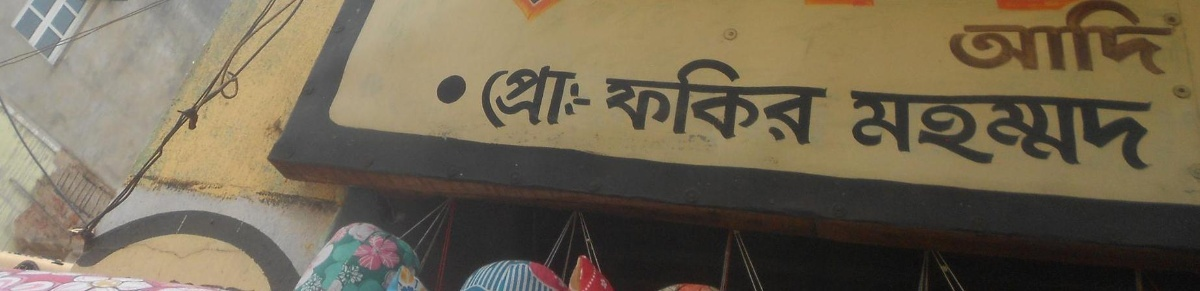text: (849, 81, 864, 182), (865, 81, 880, 182), (881, 81, 896, 182), (897, 81, 912, 182), (913, 81, 928, 182), (929, 81, 944, 182), (945, 81, 960, 182), (961, 81, 976, 182), (977, 81, 992, 182), (993, 81, 1008, 182), (1009, 81, 1024, 182), (1025, 81, 1040, 182), (1041, 81, 1056, 182), (1057, 81, 1072, 182), (1073, 81, 1088, 182), (1089, 81, 1104, 182), (1105, 81, 1120, 182), (1121, 81, 1136, 182), (1137, 81, 1152, 182), (609, 51, 624, 151), (625, 51, 640, 151), (641, 51, 656, 151), (657, 51, 672, 151), (673, 51, 688, 151), (689, 51, 704, 151), (705, 51, 720, 151), (721, 51, 736, 151), (737, 51, 752, 151), (753, 51, 768, 151), (769, 51, 784, 151), (785, 51, 800, 151), (801, 51, 816, 151), (817, 51, 832, 151), (609, 53, 624, 148), (625, 53, 640, 148), (641, 53, 656, 148), (657, 53, 672, 148), (673, 53, 688, 148), (689, 53, 704, 148), (705, 53, 720, 148), (721, 53, 736, 148), (737, 53, 752, 148), (753, 53, 768, 148), (769, 53, 784, 148), (785, 53, 800, 148), (801, 53, 816, 148), (817, 53, 832, 148), (945, 1, 960, 85), (961, 1, 976, 85), (977, 1, 992, 85), (993, 1, 1008, 85), (1009, 1, 1024, 85), (1025, 1, 1040, 85), (1041, 1, 1056, 85), (1057, 1, 1072, 85), (1073, 1, 1088, 85), (1089, 1, 1104, 85), (1105, 1, 1120, 85), (1121, 1, 1136, 85), (1137, 1, 1152, 85), (1153, 1, 1168, 85), (1169, 1, 1184, 85), (865, 89, 880, 172), (881, 89, 896, 172), (897, 89, 912, 172), (913, 89, 928, 172), (929, 89, 944, 172), (945, 89, 960, 172), (961, 89, 976, 172), (977, 89, 992, 172), (993, 89, 1008, 172), (1009, 89, 1024, 172), (1025, 89, 1040, 172), (1041, 89, 1056, 172), (1057, 89, 1072, 172), (1073, 89, 1088, 172), (1089, 89, 1104, 172), (1105, 89, 1120, 172), (1121, 89, 1136, 172), (1137, 89, 1152, 172), (497, 60, 512, 136), (513, 60, 528, 136), (529, 60, 544, 136), (545, 60, 560, 136), (561, 60, 576, 136), (577, 60, 592, 136), (961, 1, 976, 76), (977, 1, 992, 76), (993, 1, 1008, 76), (1009, 1, 1024, 76), (1025, 1, 1040, 76), (1041, 1, 1056, 76), (1057, 1, 1072, 76), (1073, 1, 1088, 76), (1089, 1, 1104, 76), (1105, 1, 1120, 76), (1121, 1, 1136, 76), (1137, 1, 1152, 76), (1153, 1, 1168, 76), (851, 89, 864, 172), (497, 65, 512, 132), (513, 65, 528, 132), (529, 65, 544, 132), (545, 65, 560, 132), (561, 65, 576, 132), (577, 65, 592, 132), (482, 65, 496, 132), (950, 1, 960, 76), (593, 60, 602, 136), (1185, 1, 1193, 85), (602, 51, 608, 151), (489, 60, 496, 136), (1153, 81, 1158, 182), (604, 53, 608, 148), (1169, 1, 1173, 76), (833, 51, 834, 151), (833, 53, 834, 148)
